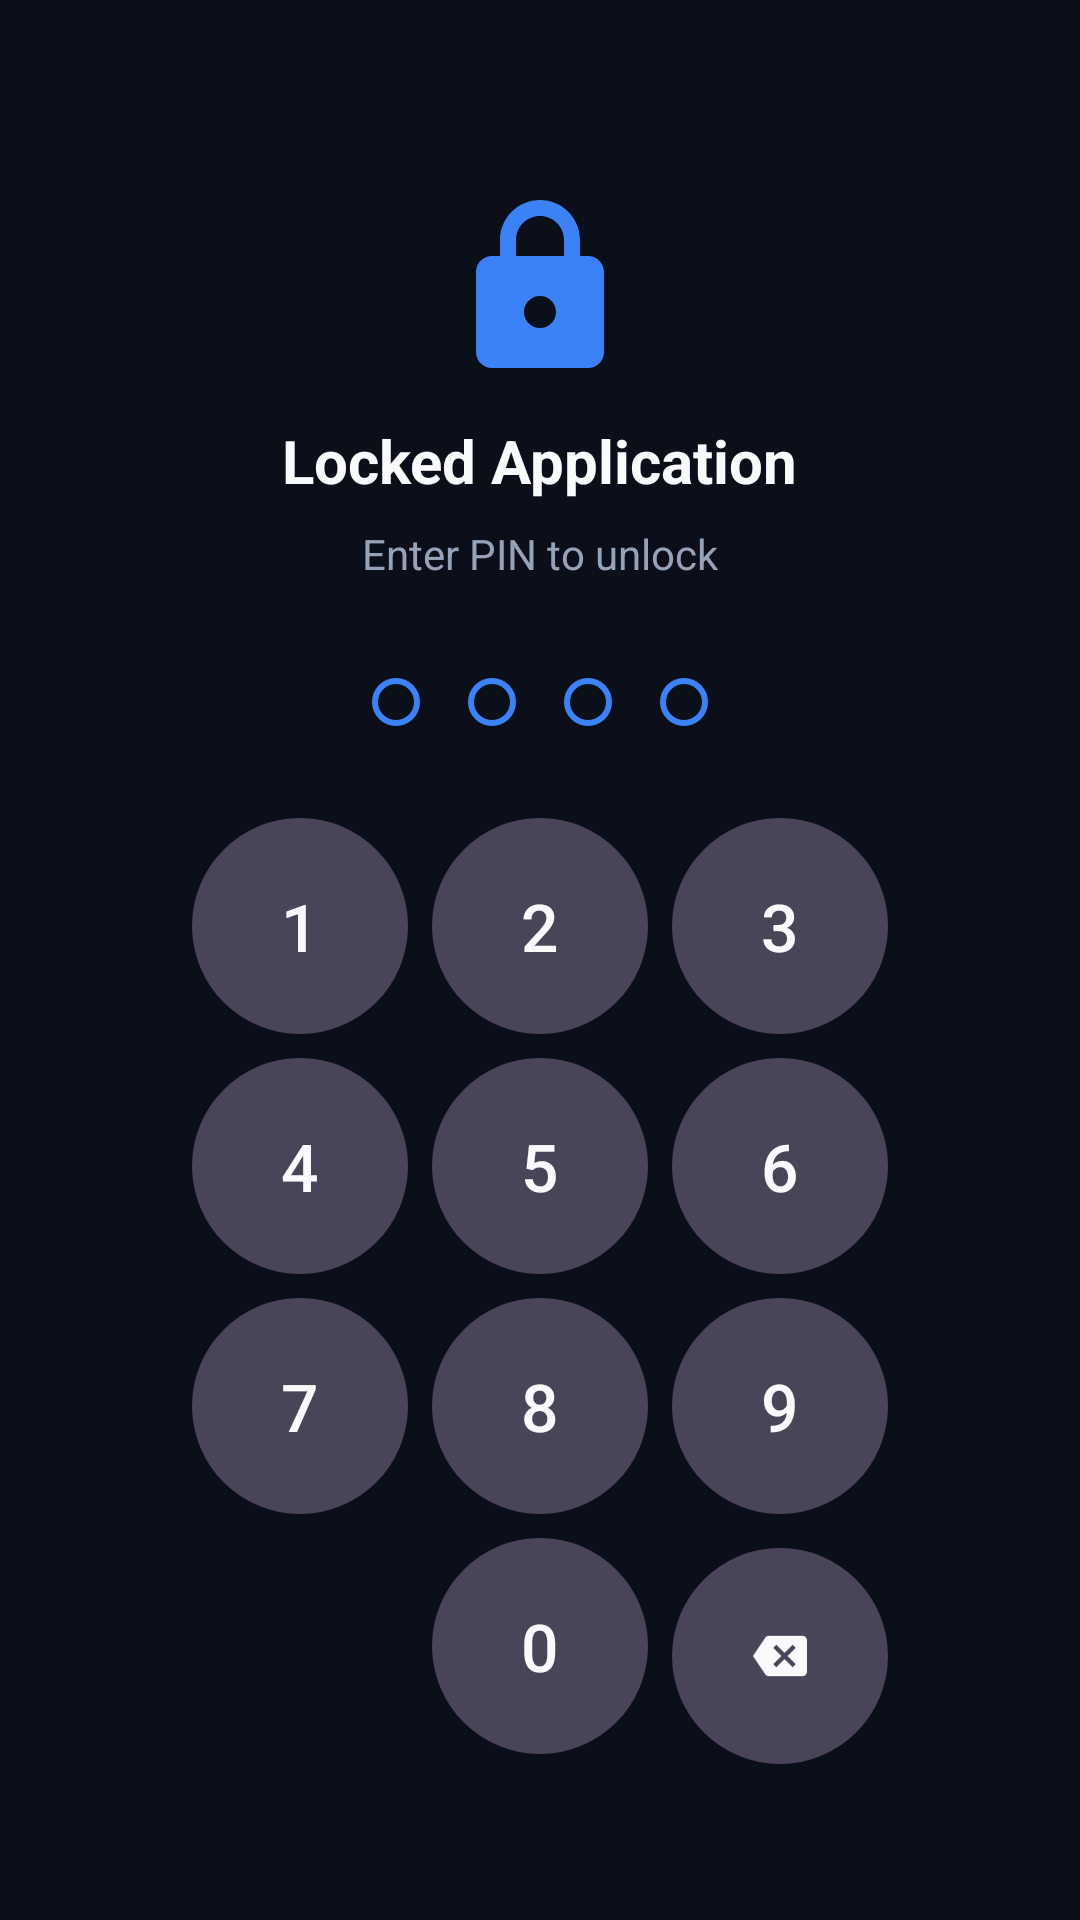

Where icons sit on this 1080px x 1920px app screen, as (x1, y1, x2, y2):
backspace: (672, 1548, 888, 1764)
